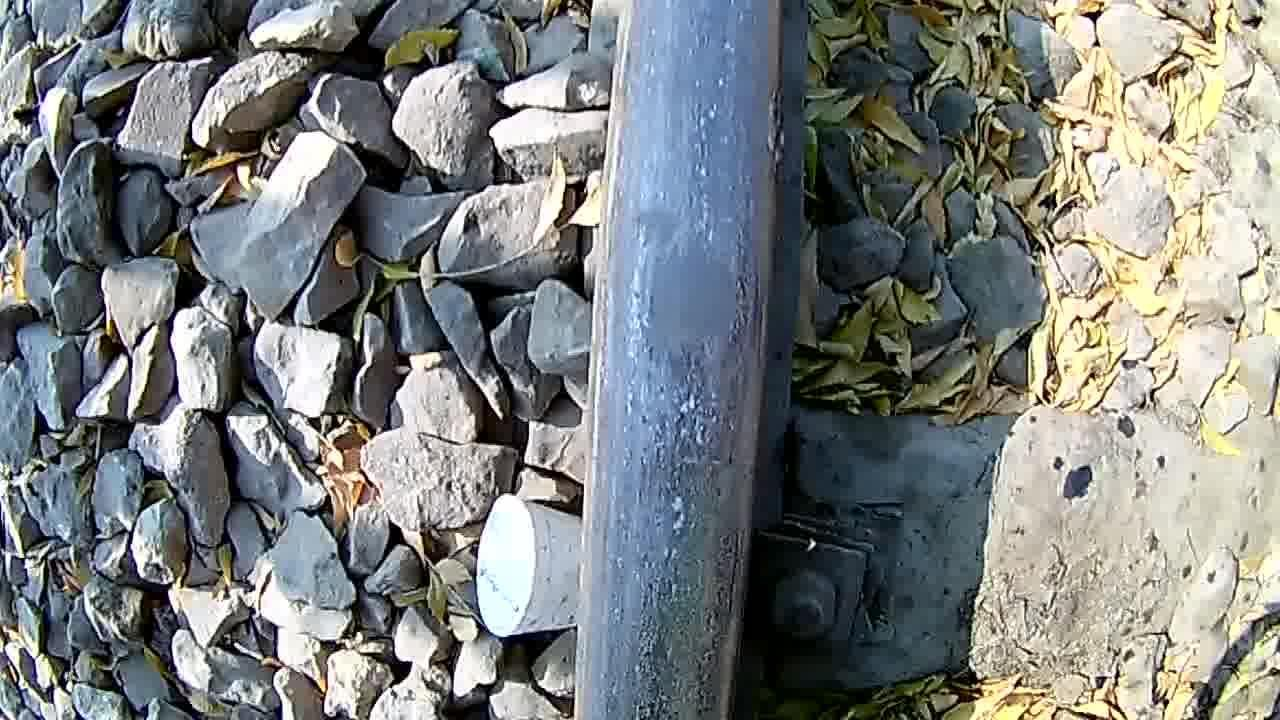crack: (613, 138, 786, 610)
